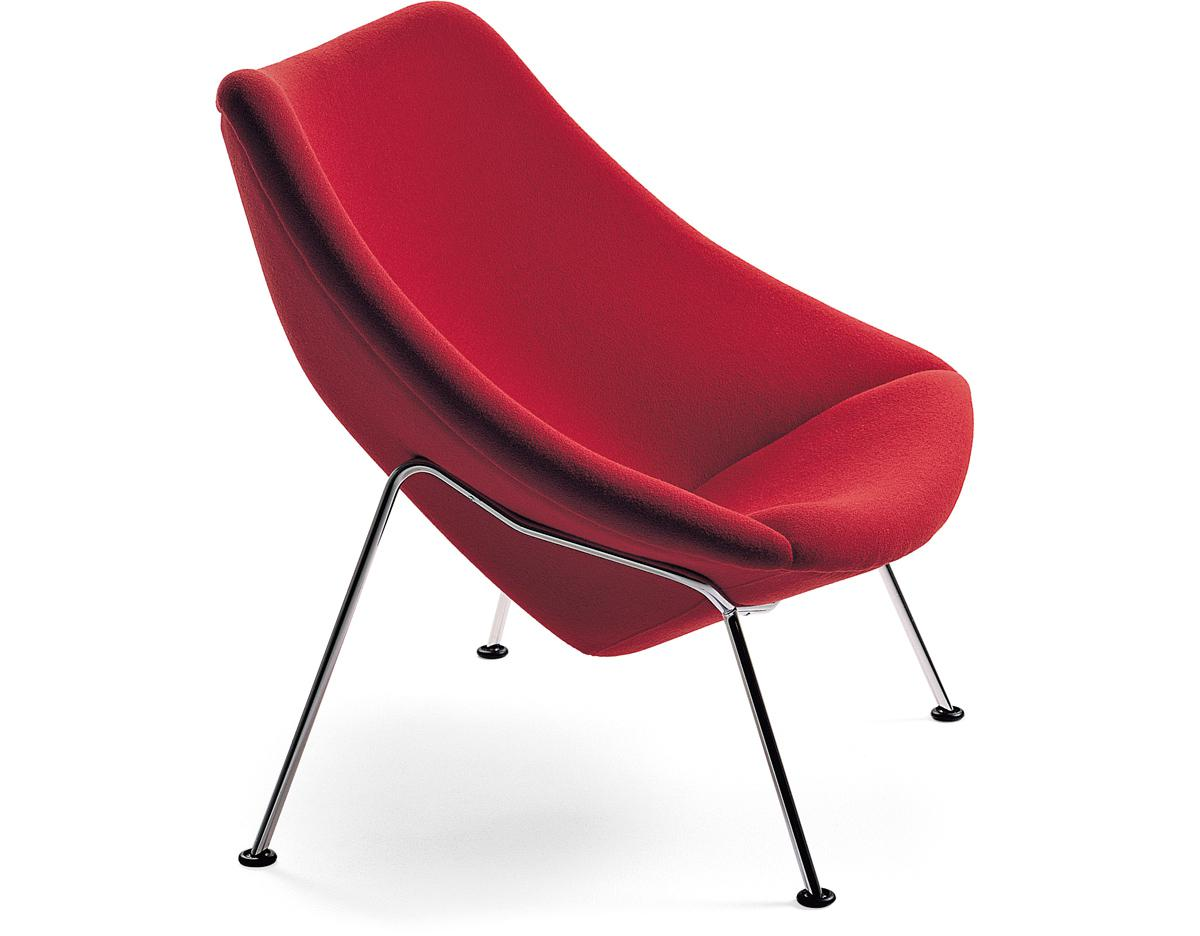chair: (161, 1, 1048, 935)
